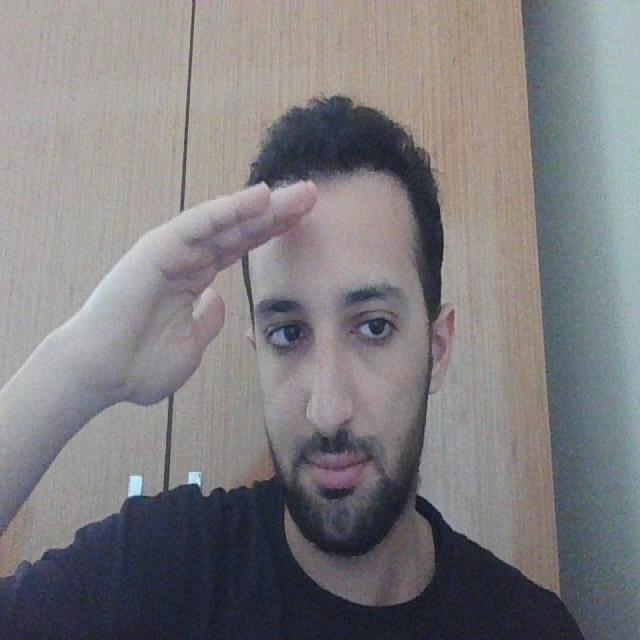Merhaba: (81, 147, 325, 481)
